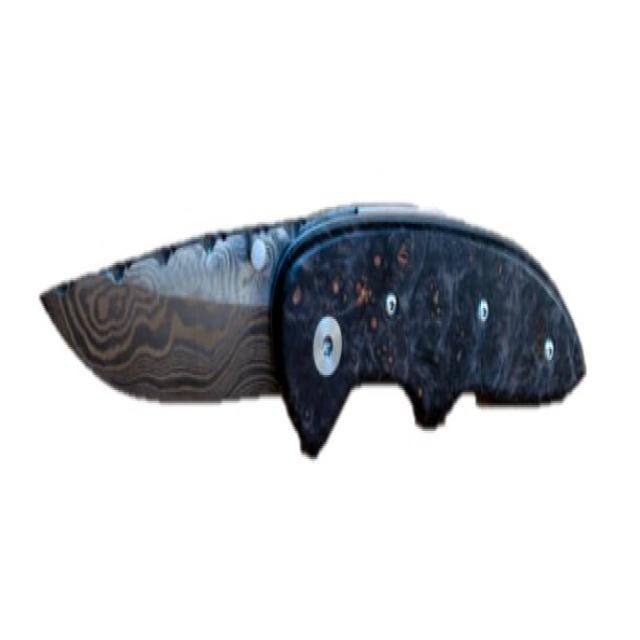knife: (32, 196, 591, 457)
